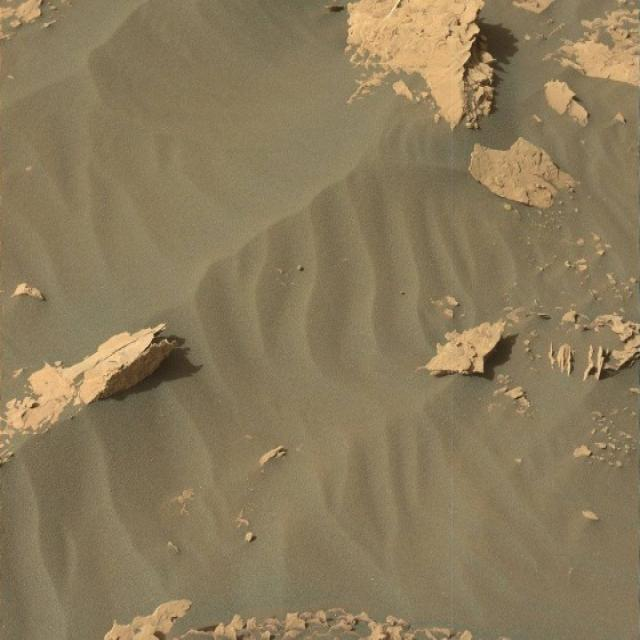rock: (0, 322, 196, 446), (341, 0, 503, 133), (468, 134, 580, 208), (422, 316, 507, 379)
